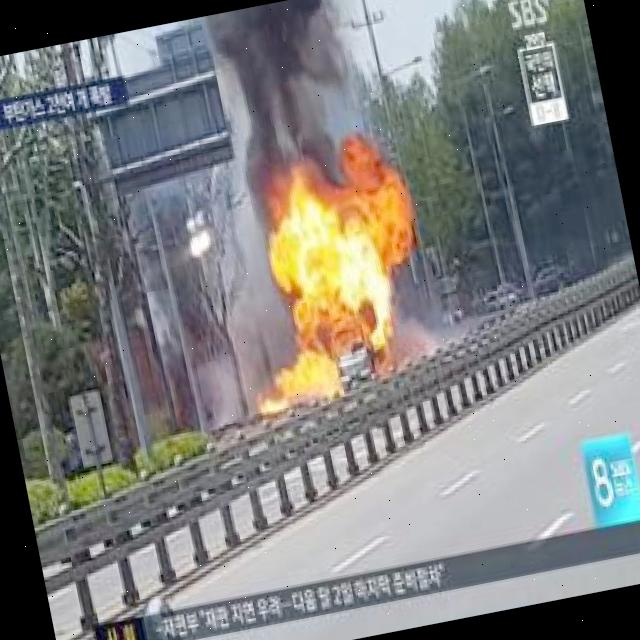fire: (266, 200, 403, 354), (264, 354, 342, 413)
